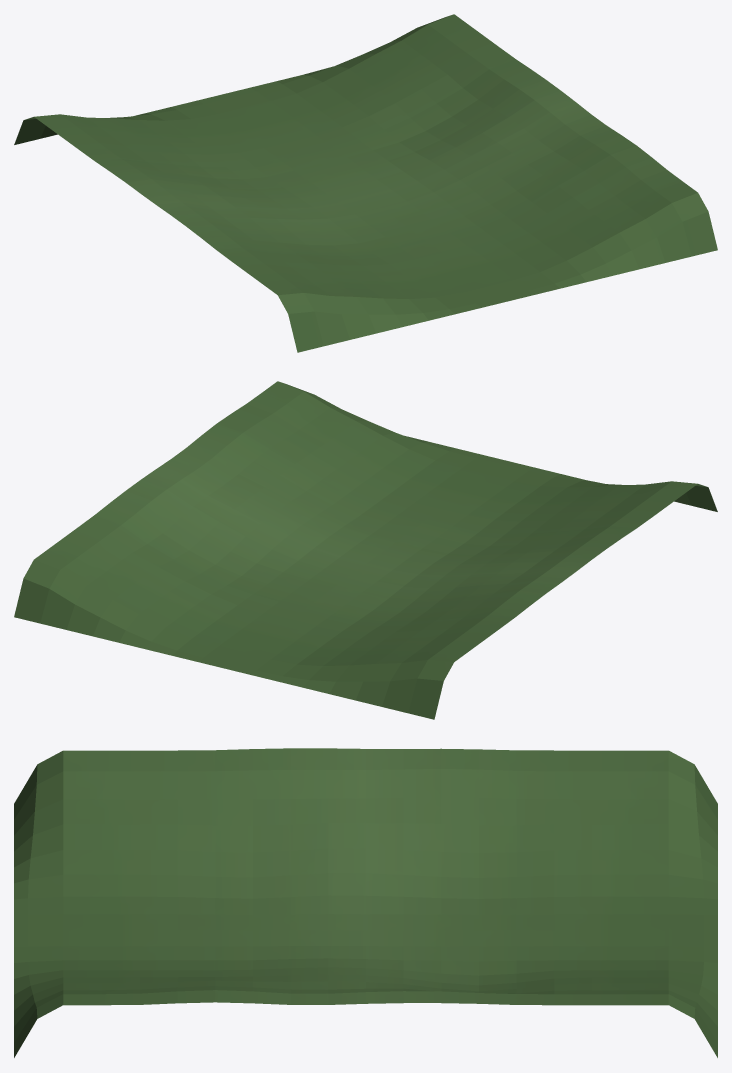
Rendered from floorForest.fbx.
The picture shows the model from 3 angles, top to bottom: view 1: azimuth 30°, elevation 25°; view 2: azimuth 150°, elevation 25°; view 3: azimuth 270°, elevation 25°; orthographic projection. The views are drawn at different scales.
Parts seen in each view (by area): view 1: Floor_Forest; view 2: Floor_Forest; view 3: Floor_Forest.
Part boxes in pixels (left/top/right/bottom): Floor_Forest: left=14, top=14, right=717, bottom=352; Floor_Forest: left=14, top=381, right=717, bottom=719; Floor_Forest: left=14, top=748, right=717, bottom=1057.
Size of the model in its own units: 6000 by 617 by 7008.
1 material, 1 textured.
